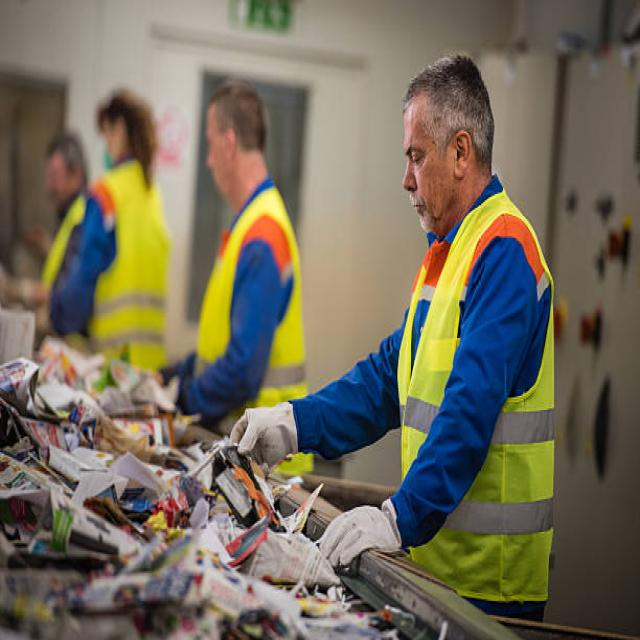Gloves: (307, 495, 408, 583), (218, 396, 306, 473)
Vest: (396, 180, 554, 604), (194, 183, 316, 476), (85, 159, 169, 380), (40, 192, 91, 356)
person: (227, 52, 557, 621), (152, 82, 316, 471), (71, 88, 174, 370), (22, 134, 92, 317)
